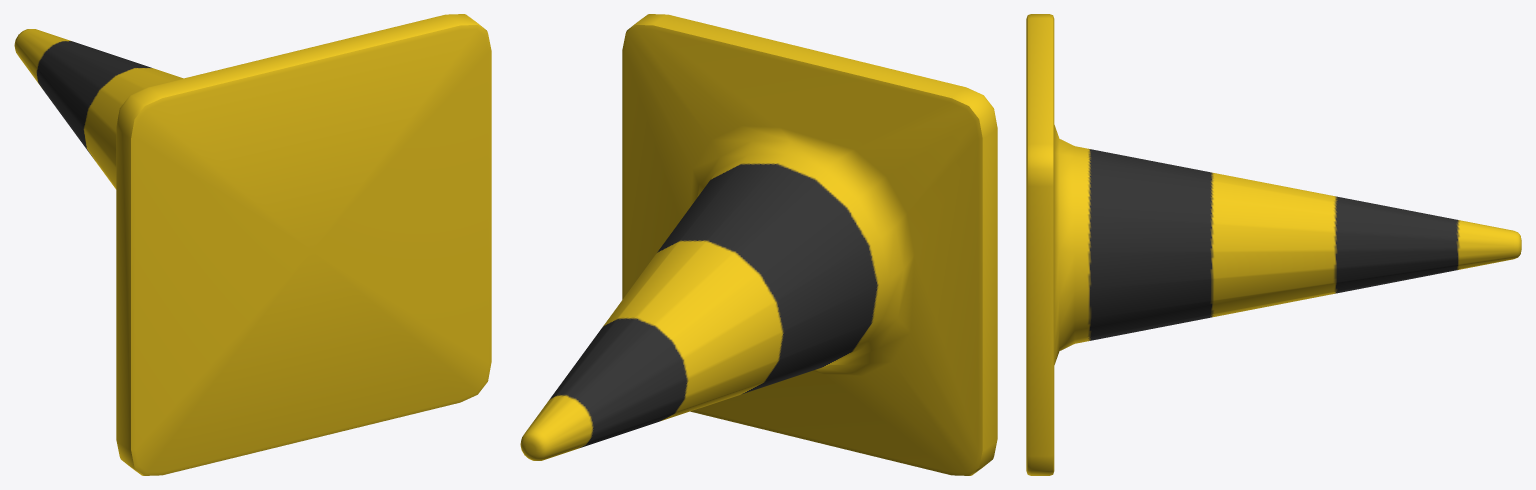
The model's file is Traffic Cone001.fbx.
3 renders of one model, left to right at view 1: azimuth 30°, elevation 25°; view 2: azimuth 150°, elevation 25°; view 3: azimuth 270°, elevation 25°, orthographic. The views are drawn at different scales.
Parts seen in each view (by area): view 1: Traffic Cone001; view 2: Traffic Cone001; view 3: Traffic Cone001.
Part boxes in pixels (x1,y1,x2,y2): Traffic Cone001: (14, 14, 491, 475); Traffic Cone001: (520, 14, 997, 475); Traffic Cone001: (1026, 14, 1521, 475).
Bounding box in the file's own units: 34.83 × 34.83 × 47.7.
1 material, 1 textured.
